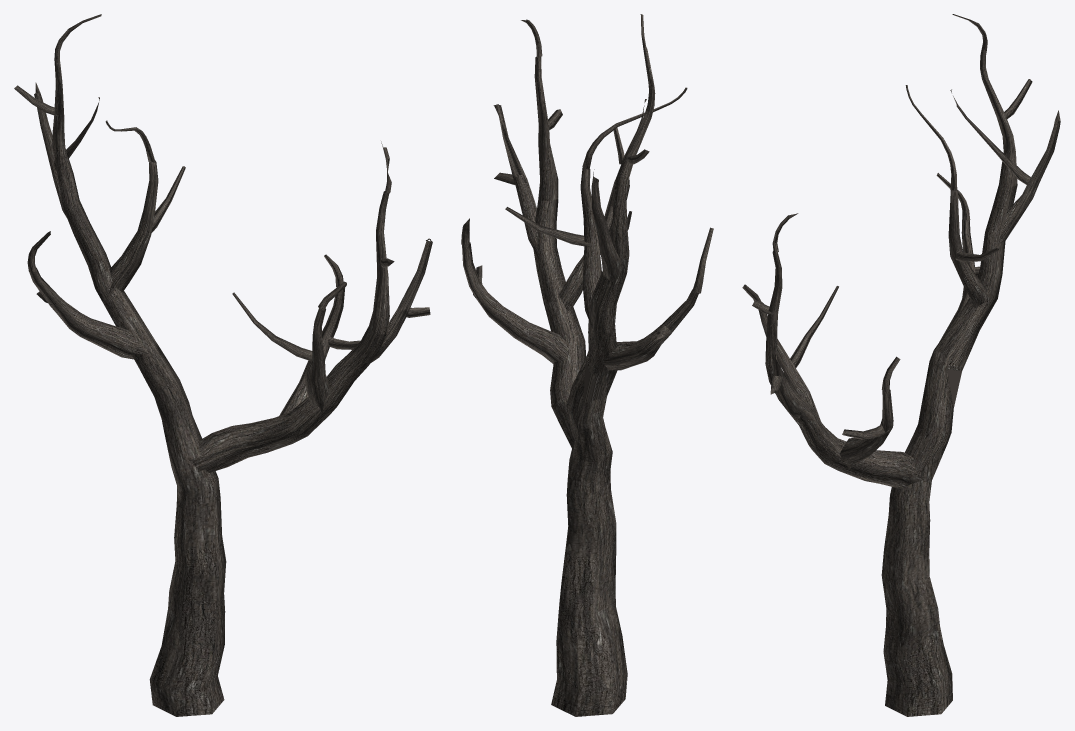
The model's file is Tree_NoLeaves.fbx.
3 views of the same model, side by side, from view 1: azimuth 30°, elevation 25°; view 2: azimuth 150°, elevation 25°; view 3: azimuth 270°, elevation 25° (orthographic). The views are drawn at different scales.
Parts seen in each view (by area): view 1: LOD_0; view 2: LOD_0; view 3: LOD_0.
Boxes of the visible parts, bbox=[...] form: LOD_0: bbox=[14, 14, 432, 716]; LOD_0: bbox=[461, 14, 713, 716]; LOD_0: bbox=[742, 14, 1060, 716].
Bounding box in the file's own units: 420 × 918 × 403.
